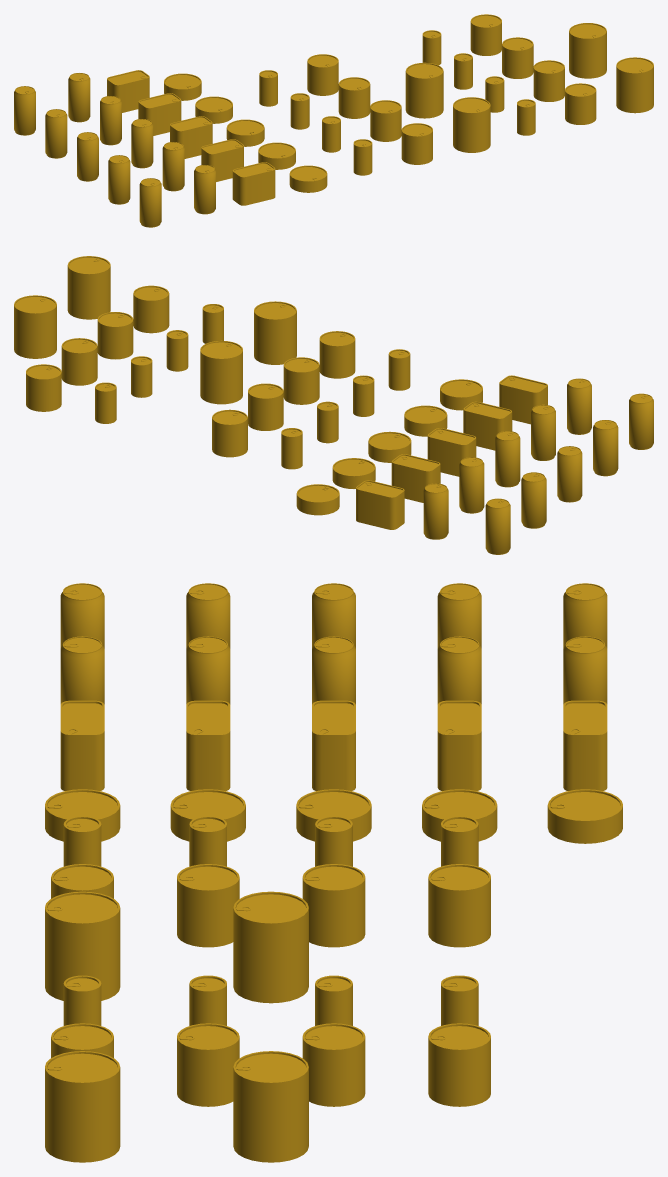
The model's file is can.fbx.
The picture shows the model from 3 angles, top to bottom: view 1: azimuth 30°, elevation 25°; view 2: azimuth 150°, elevation 25°; view 3: azimuth 270°, elevation 25°; orthographic projection. The views are drawn at different scales.
Parts seen in each view (by area): view 1: Can_corn_3__2, Can_peas_3__1, Can_peas_3__2, Can_corn_3__1, Can_fish_2_1, Can_fish_2_4, Can_fish_2_3, Can_fish_2_5, Can_fish_2_2, Can_corn_2__3, Can_corn_2__2, Can_corn_2__4 (+28 smaller); view 2: Can_peas_3__1, Can_corn_3__2, Can_peas_3__2, Can_corn_3__1, Can_fish_2_5, Can_fish_2_4, Can_fish_2_3, Can_fish_2_2, Can_fish_2_1, Can_corn_2__1, Can_peas_2__1, Can_peas_2__3 (+28 smaller); view 3: Can_peas_3__1, Can_corn_3__2, Can_peas_3__2, Can_corn_3__1, Can_peas_2_4, Can_corn_2__4, Can_peas_2__3, Can_corn_2__3, Can_peas_2__2, Can_corn_2__2, Can_fish_2_5, Can_fish_2_1 (+28 smaller).
Boxes of the visible parts, x1,y1,x2,y2 form: Can_corn_3__2: (405,62,443,118); Can_peas_3__1: (616,57,653,113); Can_peas_3__2: (569,23,606,78); Can_corn_3__1: (453,97,490,152); Can_fish_2_1: (232,162,275,205); Can_fish_2_4: (138,93,181,135); Can_fish_2_3: (170,116,212,158); Can_fish_2_5: (107,70,149,112); Can_fish_2_2: (201,139,243,181); Can_corn_2__3: (338,77,370,118); Can_corn_2__2: (370,100,401,141); Can_corn_2__4: (307,54,338,95); Can_peas_3__1: (67,256,110,319); Can_corn_3__2: (200,340,242,404); Can_peas_3__2: (14,295,56,358); Can_corn_3__1: (254,301,296,364); Can_fish_2_5: (356,480,404,529); Can_fish_2_4: (391,454,440,502); Can_fish_2_3: (427,428,476,476); Can_fish_2_2: (463,401,512,450); Can_fish_2_1: (499,375,547,424); Can_corn_2__1: (319,331,355,378); Can_peas_2__1: (133,285,169,333); Can_peas_2__3: (61,338,97,385); Can_peas_3__1: (45,1051,120,1162); Can_corn_3__2: (233,891,308,1003); Can_peas_3__2: (233,1051,308,1162); Can_corn_3__1: (45,891,120,1000); Can_peas_2_4: (428,1023,490,1106); Can_corn_2__4: (428,864,490,947); Can_peas_2__3: (302,1023,365,1106); Can_corn_2__3: (302,864,365,947); Can_peas_2__2: (177,1023,239,1106); Can_corn_2__2: (177,864,239,947); Can_fish_2_5: (563,700,607,790); Can_fish_2_1: (60,700,104,790).
Size of the model in its own units: 187 by 14.44 by 92.
